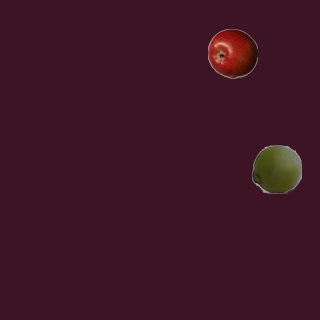Apple Braeburn: (207, 28, 257, 78)
Grape White 4: (251, 143, 301, 193)
